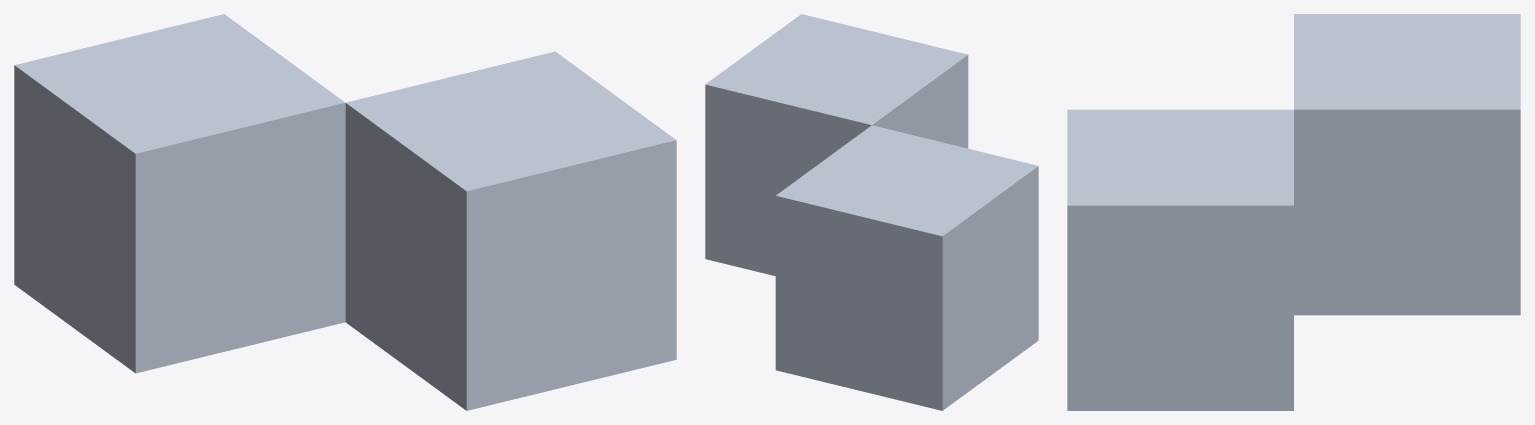
File: nuvem10.fbx
3 renders of one model, left to right at view 1: azimuth 30°, elevation 25°; view 2: azimuth 150°, elevation 25°; view 3: azimuth 270°, elevation 25°, orthographic. The views are drawn at different scales.
Parts seen in each view (by area): view 1: Cube.002; view 2: Cube.002; view 3: Cube.002.
Part boxes in pixels (box(x1,y1,x2,y2)): Cube.002: box(14, 14, 676, 410); Cube.002: box(705, 14, 1038, 410); Cube.002: box(1067, 14, 1520, 410).
Size of the model in its own units: 200 by 100 by 200.
